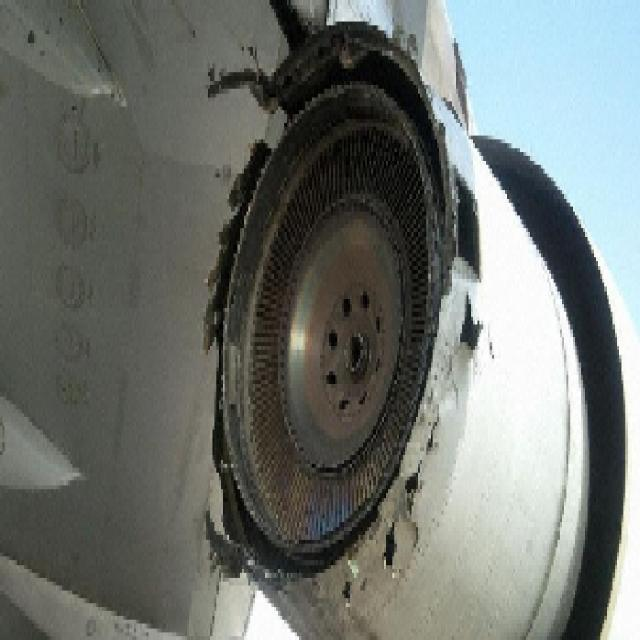crack: (336, 286, 488, 614)
